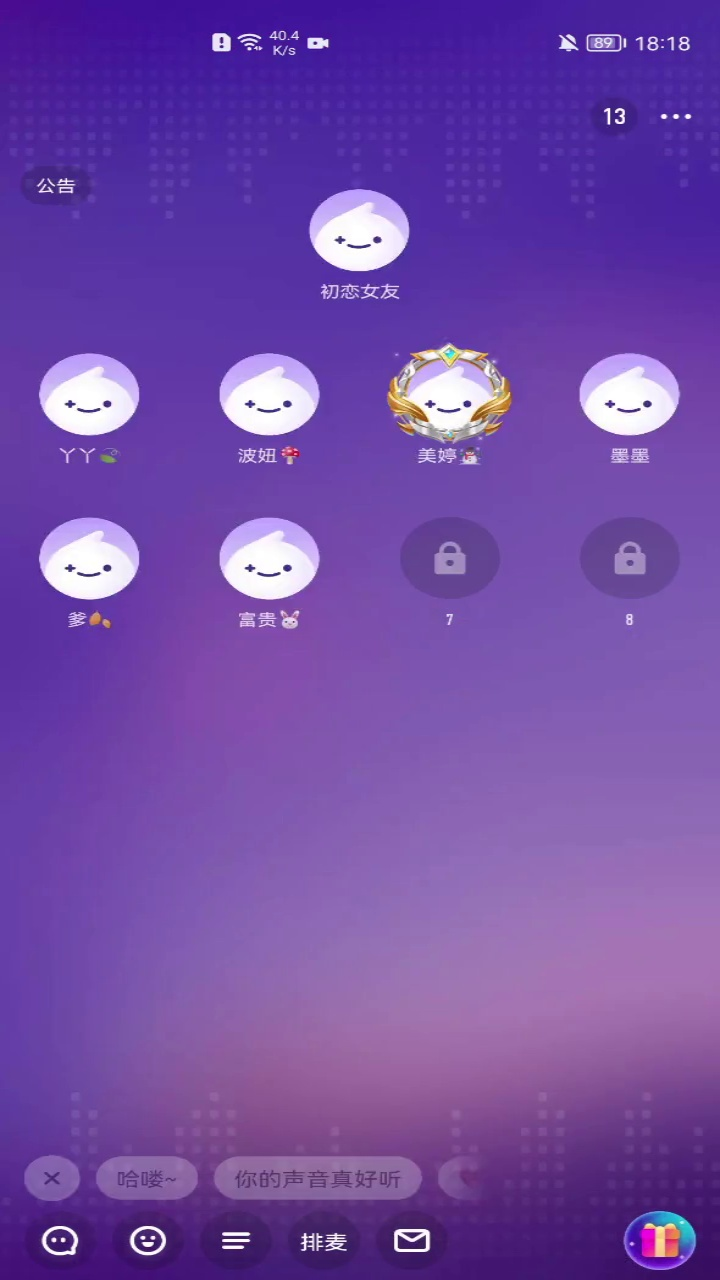avatar: (388, 342, 513, 444), (213, 512, 323, 604), (579, 346, 685, 438), (36, 348, 144, 438), (216, 348, 321, 440), (305, 185, 413, 273), (36, 512, 141, 601)
